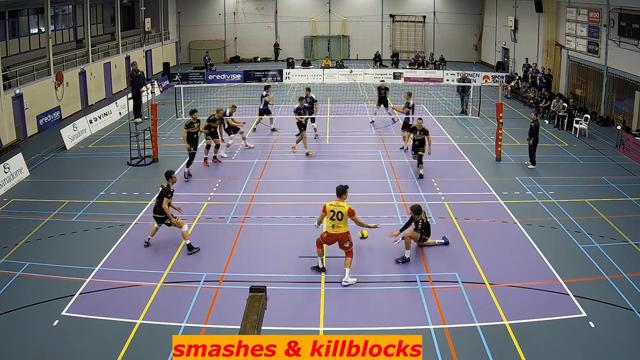difesa: (308, 180, 384, 288), (384, 200, 453, 268)
